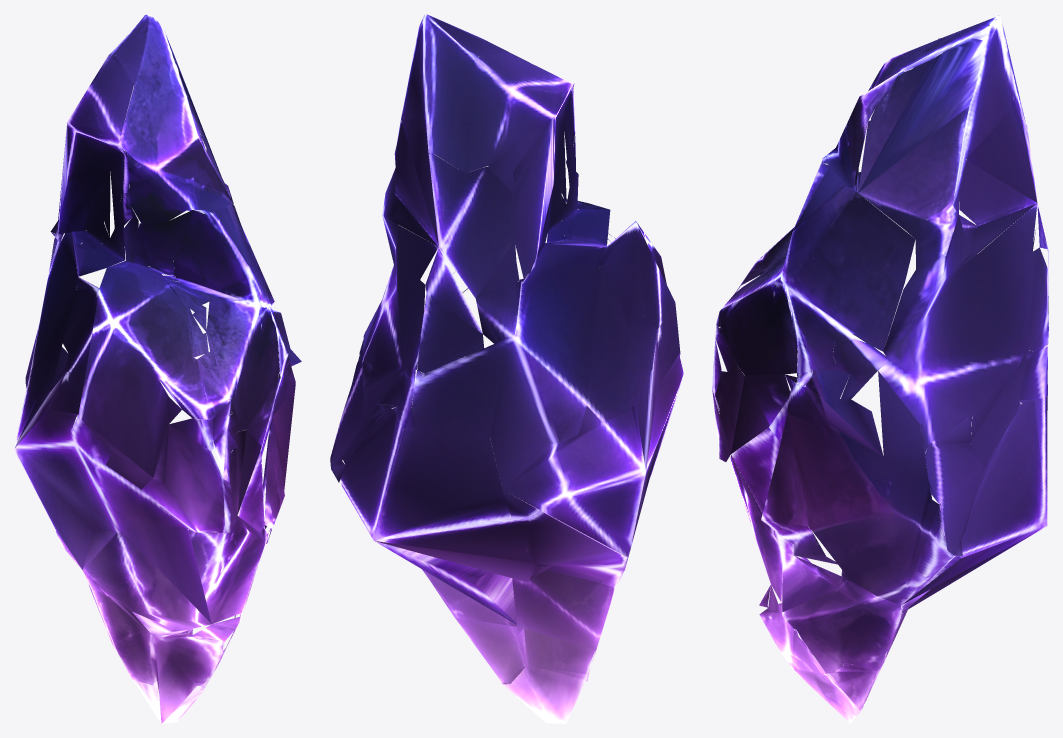
The model's file is low_poly_purple_gem.glb.
The picture shows the model from 3 angles, left to right: view 1: azimuth 30°, elevation 25°; view 2: azimuth 150°, elevation 25°; view 3: azimuth 270°, elevation 25°; orthographic projection. The views are drawn at different scales.
Visible parts, largest first — view 1: low-low-poly; view 2: low-low-poly; view 3: low-low-poly.
Part boxes in pixels (<box>): low-low-poly: <box>14,14,301,723</box>; low-low-poly: <box>330,14,683,723</box>; low-low-poly: <box>712,15,1048,723</box>.
Bounding box in the file's own units: 0.4221 × 0.9796 × 0.4103.
Materials: 1 (1 with a texture image).
